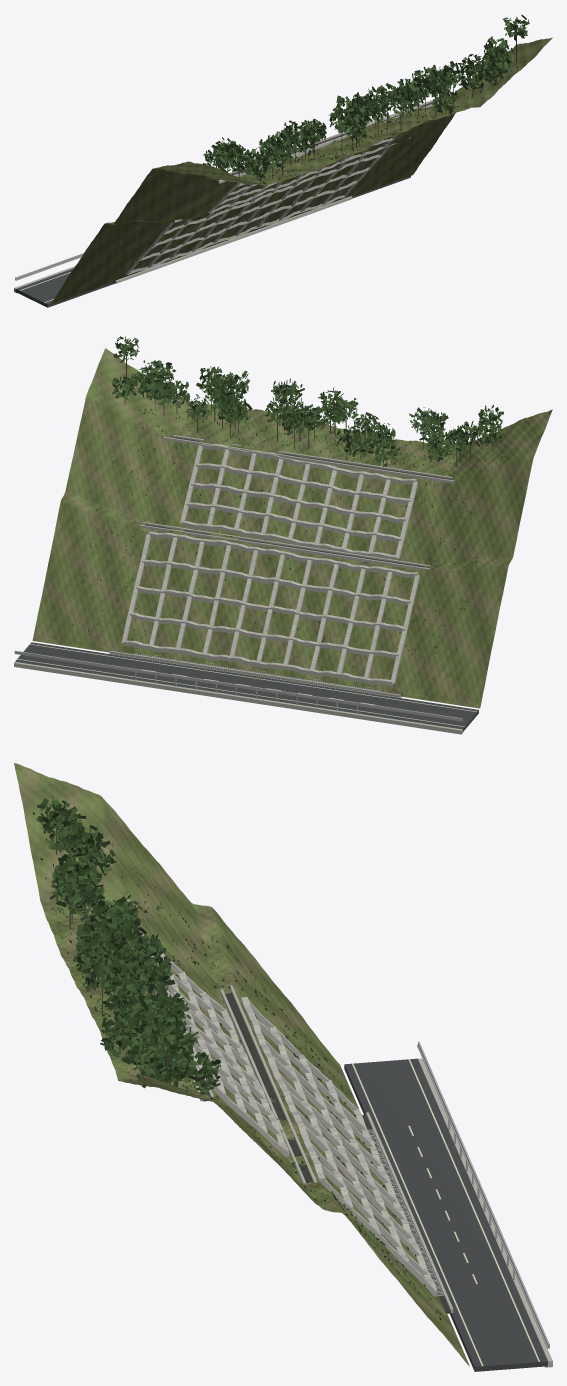
The model's file is tsubasa-terrain.glb.
3 views of the same model, one above another, from view 1: azimuth 30°, elevation 25°; view 2: azimuth 150°, elevation 25°; view 3: azimuth 270°, elevation 25° (orthographic). The views are drawn at different scales.
Parts seen in each view (by area): view 1: Tsubasa_VegetatedSlope_0, Tsubasa_Foliage_7, Tsubasa_Concrete_1, Tsubasa_Asphalt_4, Tsubasa_Bark_6; view 2: Tsubasa_VegetatedSlope_0, Tsubasa_Concrete_1, Tsubasa_Foliage_7, Tsubasa_Asphalt_4, Tsubasa_GalvanizedSteel_3, Tsubasa_RoadMarking_5, Tsubasa_DrainInterior_2, Tsubasa_Bark_6; view 3: Tsubasa_VegetatedSlope_0, Tsubasa_Concrete_1, Tsubasa_Asphalt_4, Tsubasa_Foliage_7, Tsubasa_GalvanizedSteel_3, Tsubasa_DrainInterior_2, Tsubasa_RoadMarking_5.
Boxes of the visible parts, box(x1,y1,x2,y2) form: Tsubasa_VegetatedSlope_0: box(50, 37, 552, 304); Tsubasa_Foliage_7: box(105, 14, 529, 280); Tsubasa_Concrete_1: box(14, 94, 450, 293); Tsubasa_Asphalt_4: box(16, 176, 410, 307); Tsubasa_Bark_6: box(216, 25, 516, 180); Tsubasa_VegetatedSlope_0: box(32, 348, 552, 708); Tsubasa_Concrete_1: box(14, 435, 463, 734); Tsubasa_Foliage_7: box(72, 336, 516, 688); Tsubasa_Asphalt_4: box(15, 642, 478, 731); Tsubasa_GalvanizedSteel_3: box(14, 650, 462, 721); Tsubasa_RoadMarking_5: box(17, 644, 476, 726); Tsubasa_DrainInterior_2: box(111, 437, 454, 696); Tsubasa_Bark_6: box(124, 346, 492, 467); Tsubasa_VegetatedSlope_0: box(14, 763, 469, 1366); Tsubasa_Concrete_1: box(127, 899, 552, 1367); Tsubasa_Asphalt_4: box(344, 1058, 547, 1371); Tsubasa_Foliage_7: box(32, 795, 441, 1320); Tsubasa_GalvanizedSteel_3: box(368, 1041, 549, 1348); Tsubasa_DrainInterior_2: box(137, 935, 450, 1313); Tsubasa_RoadMarking_5: box(351, 1059, 539, 1366).
Size of the model in its own units: 21.72 by 10.82 by 14.81.
